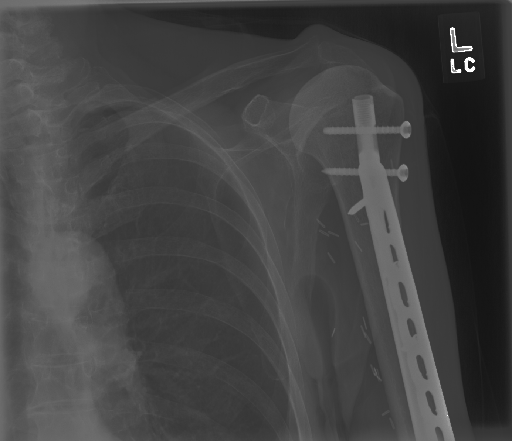implant: (316, 84, 423, 300)
